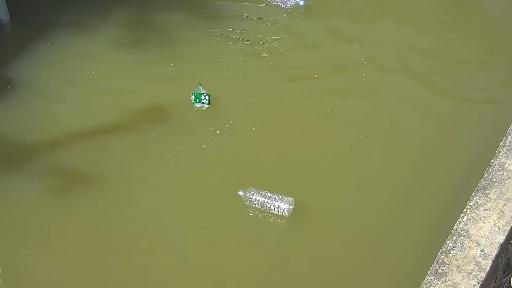plastic: (227, 186, 304, 217), (191, 75, 215, 119), (258, 0, 307, 14)
